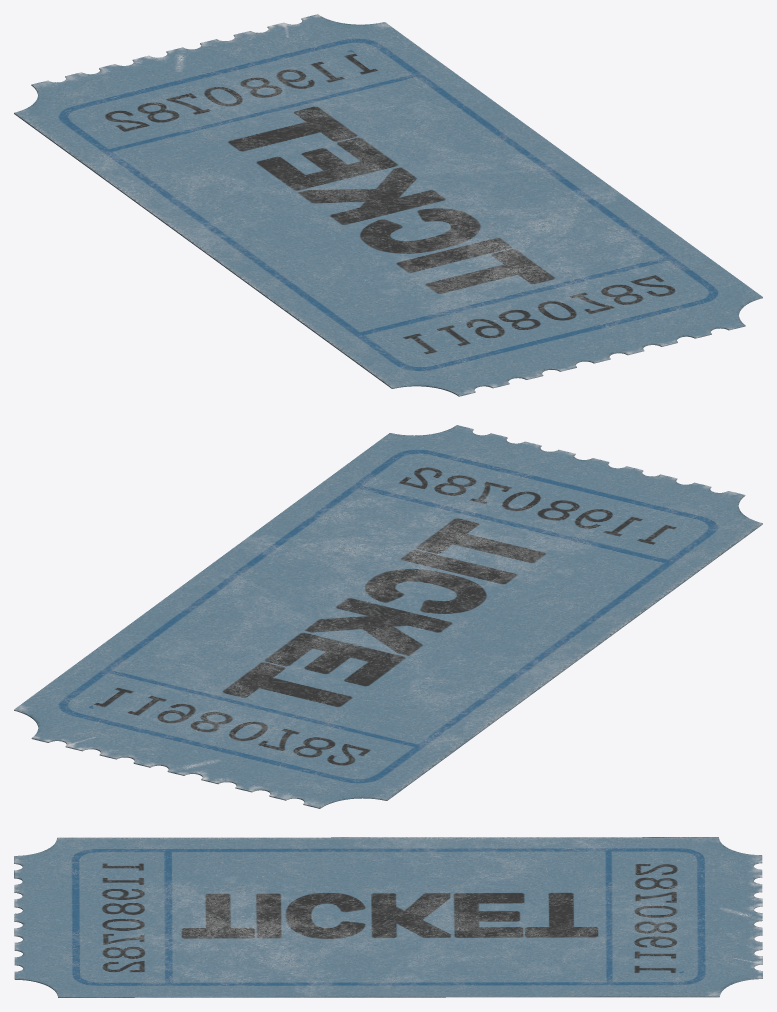
3 views of the same model, one above another, from view 1: azimuth 30°, elevation 25°; view 2: azimuth 150°, elevation 25°; view 3: azimuth 270°, elevation 25° (orthographic). The views are drawn at different scales.
Visible parts, largest first — view 1: shadeYellow; view 2: shadeYellow; view 3: shadeYellow.
Boxes of the visible parts, left/top/right/bottom form: shadeYellow: left=14, top=14, right=762, bottom=396; shadeYellow: left=14, top=425, right=762, bottom=808; shadeYellow: left=14, top=837, right=762, bottom=997.
Size of the model in its own units: 0.5499 by 0.00148 by 1.09.
Materials: 1 (1 with a texture image).
